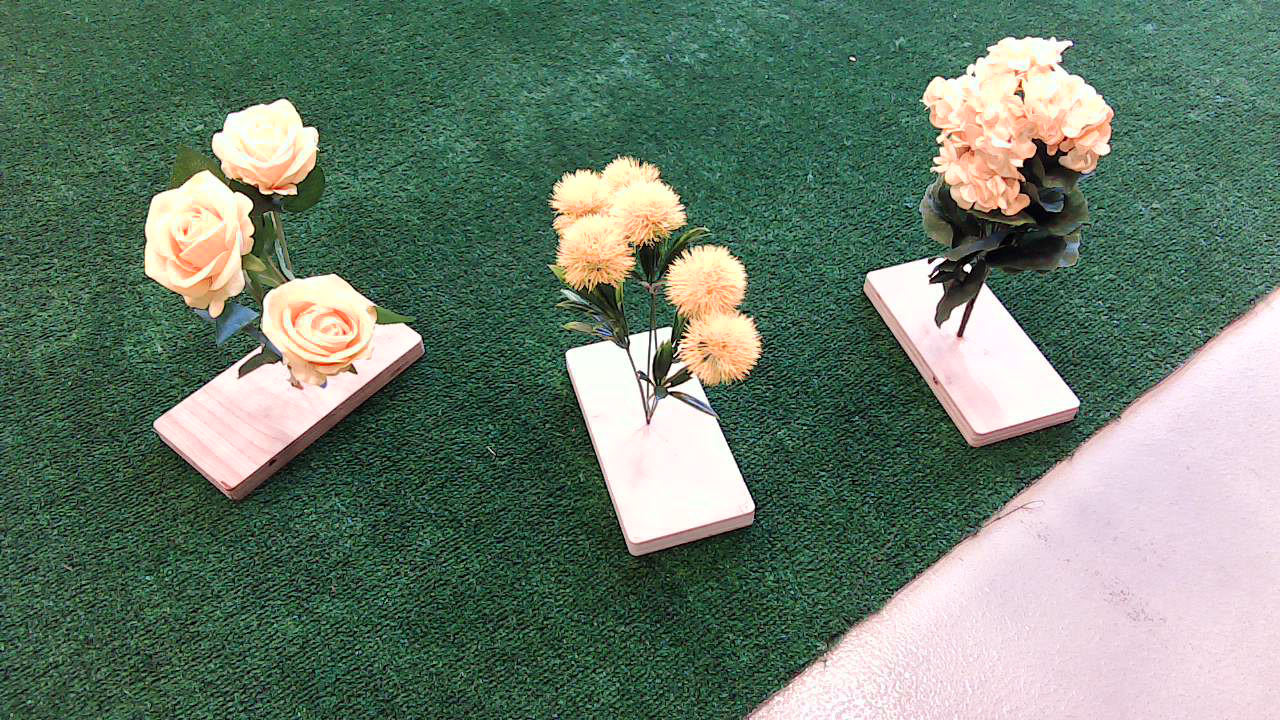dandelion: (528, 158, 781, 426)
geranium: (894, 28, 1126, 361)
rose: (115, 105, 426, 396)
